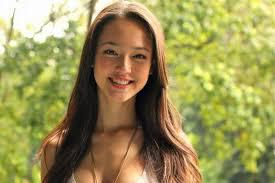face: (95, 18, 151, 101)
